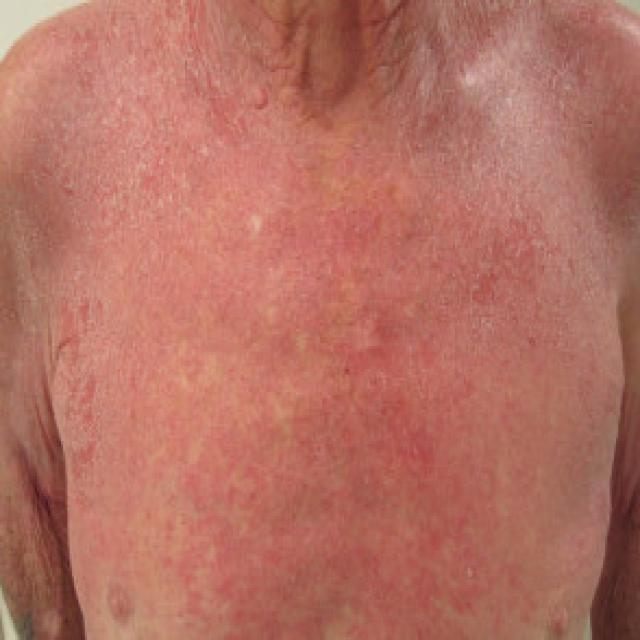Eczema: (15, 13, 632, 640)
